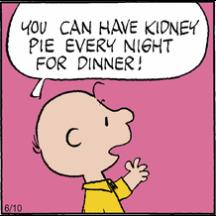charlie: (32, 81, 148, 215)
